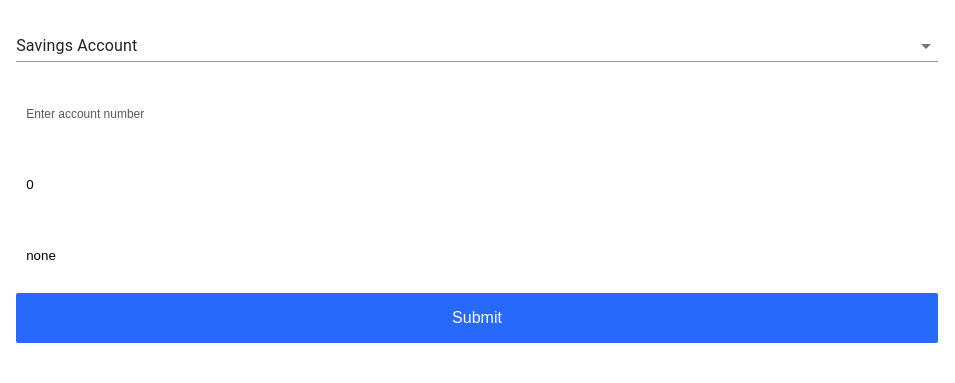
Test: transfer › invalid to_acct_num
In the field named "to_acct_num": (477, 113) [16, 93, 938, 133], type "hi@"
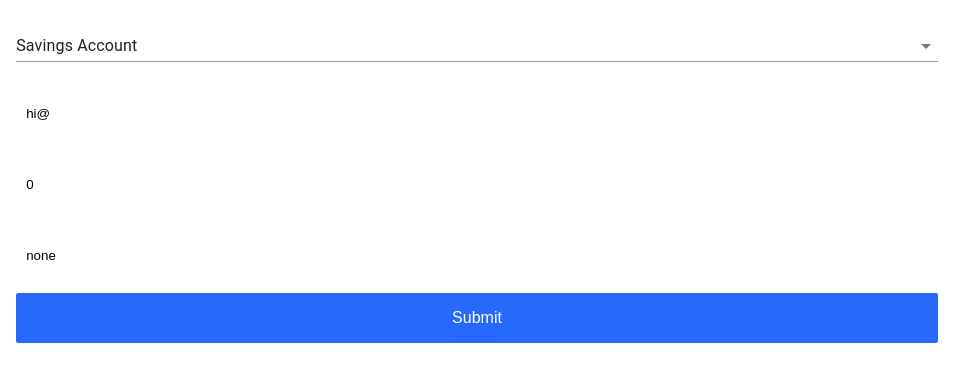
Click the button "Submit": (477, 318) [16, 293, 938, 343]
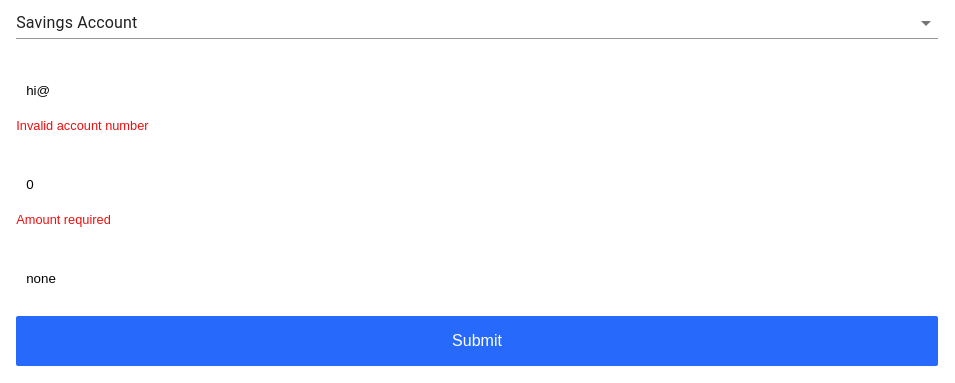
Now the text named "invalid-acct" reads "Invalid account number", box [16, 118, 148, 133]
